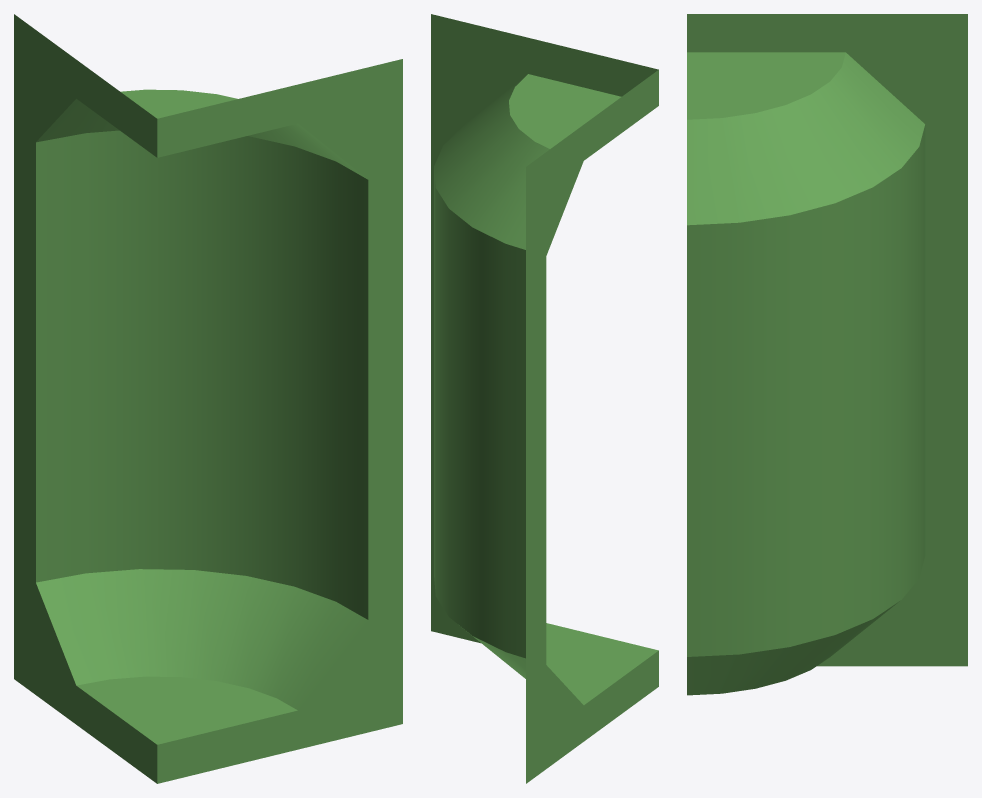
The model's file is CLow_Wall_A_ConerIn.FBX.
3 renders of one model, left to right at view 1: azimuth 30°, elevation 25°; view 2: azimuth 150°, elevation 25°; view 3: azimuth 270°, elevation 25°, orthographic. The views are drawn at different scales.
Visible parts, largest first — view 1: CLow_Wall_A_ConerIn; view 2: CLow_Wall_A_ConerIn; view 3: CLow_Wall_A_ConerIn.
Part boxes in pixels (x1,y1,x2,y2): CLow_Wall_A_ConerIn: (14, 14, 402, 783); CLow_Wall_A_ConerIn: (431, 14, 658, 783); CLow_Wall_A_ConerIn: (687, 14, 967, 695).
Bounding box in the file's own units: 131 × 340 × 133.
